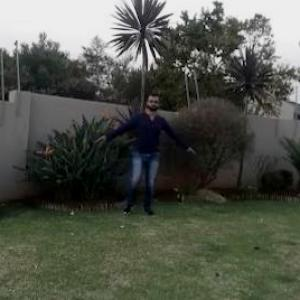land: (69, 72, 202, 235)
